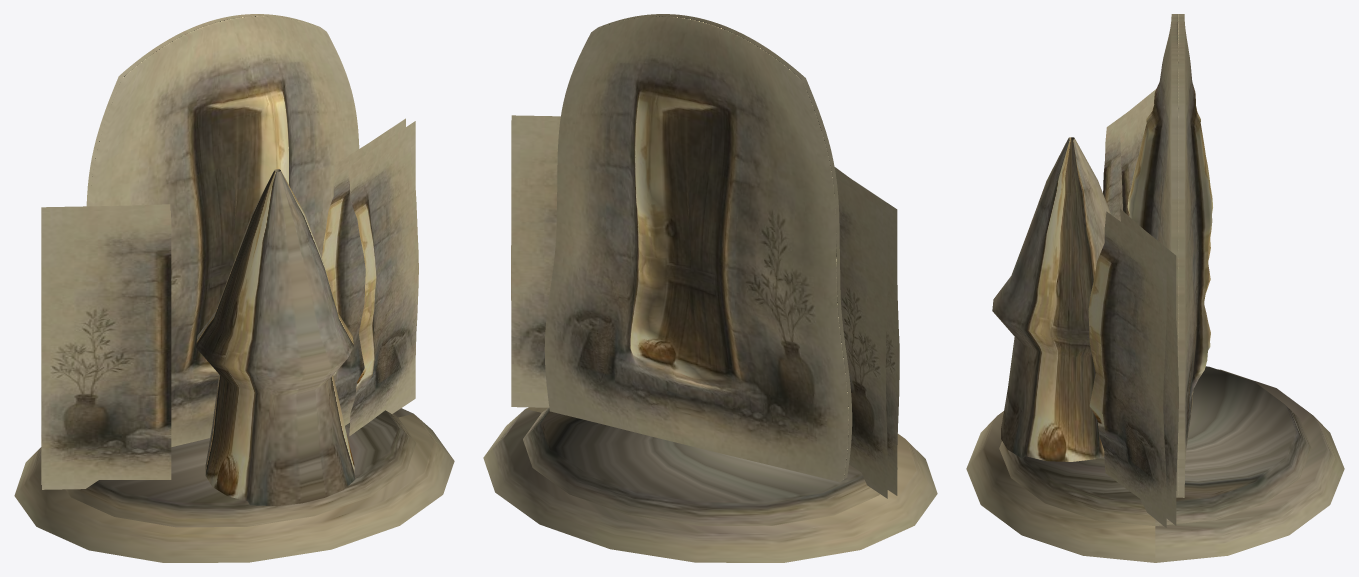
The model's file is little-children-18.glb.
3 views of the same model, side by side, from view 1: azimuth 30°, elevation 25°; view 2: azimuth 150°, elevation 25°; view 3: azimuth 270°, elevation 25° (orthographic). The views are drawn at different scales.
Parts seen in each view (by area): view 1: PaintingSculptureMonument; view 2: PaintingSculptureMonument; view 3: PaintingSculptureMonument.
Boxes of the visible parts, x1,y1,x2,y2 form: PaintingSculptureMonument: (14,14,454,562); PaintingSculptureMonument: (483,14,937,562); PaintingSculptureMonument: (966,14,1344,562).
Size of the model in its own units: 2.76 by 2.99 by 2.35.
1 material, 1 textured.
